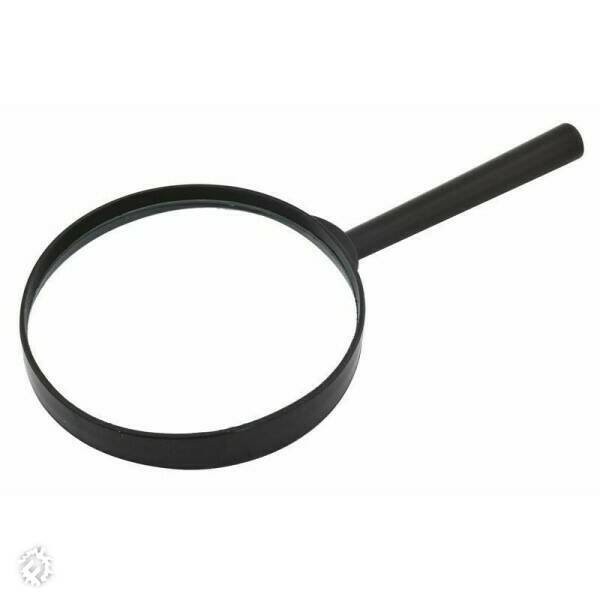magnifying-glass: (24, 99, 582, 489)
